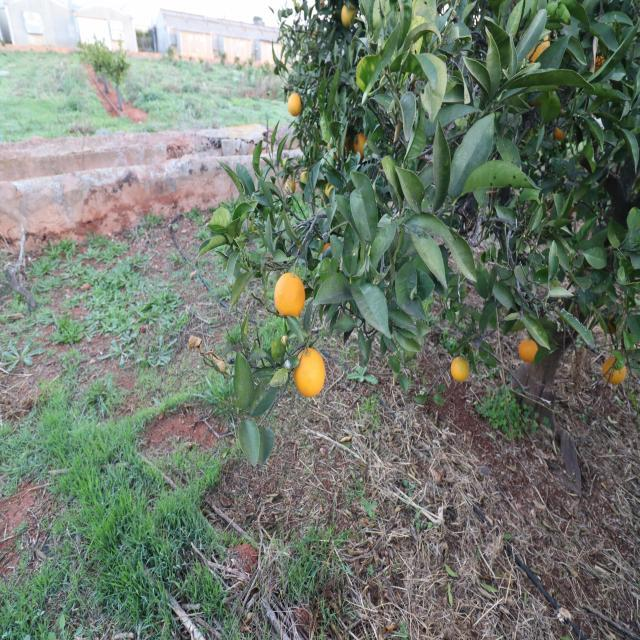Jeruk Belum Matang: (300, 172, 308, 184)
Jeruk Sudah Matang: (294, 348, 326, 398), (274, 272, 306, 318), (520, 32, 554, 62), (518, 339, 538, 364), (450, 357, 470, 382), (609, 364, 630, 386), (340, 4, 358, 26), (353, 132, 370, 155), (287, 91, 302, 114), (282, 177, 298, 196), (554, 127, 569, 143)
